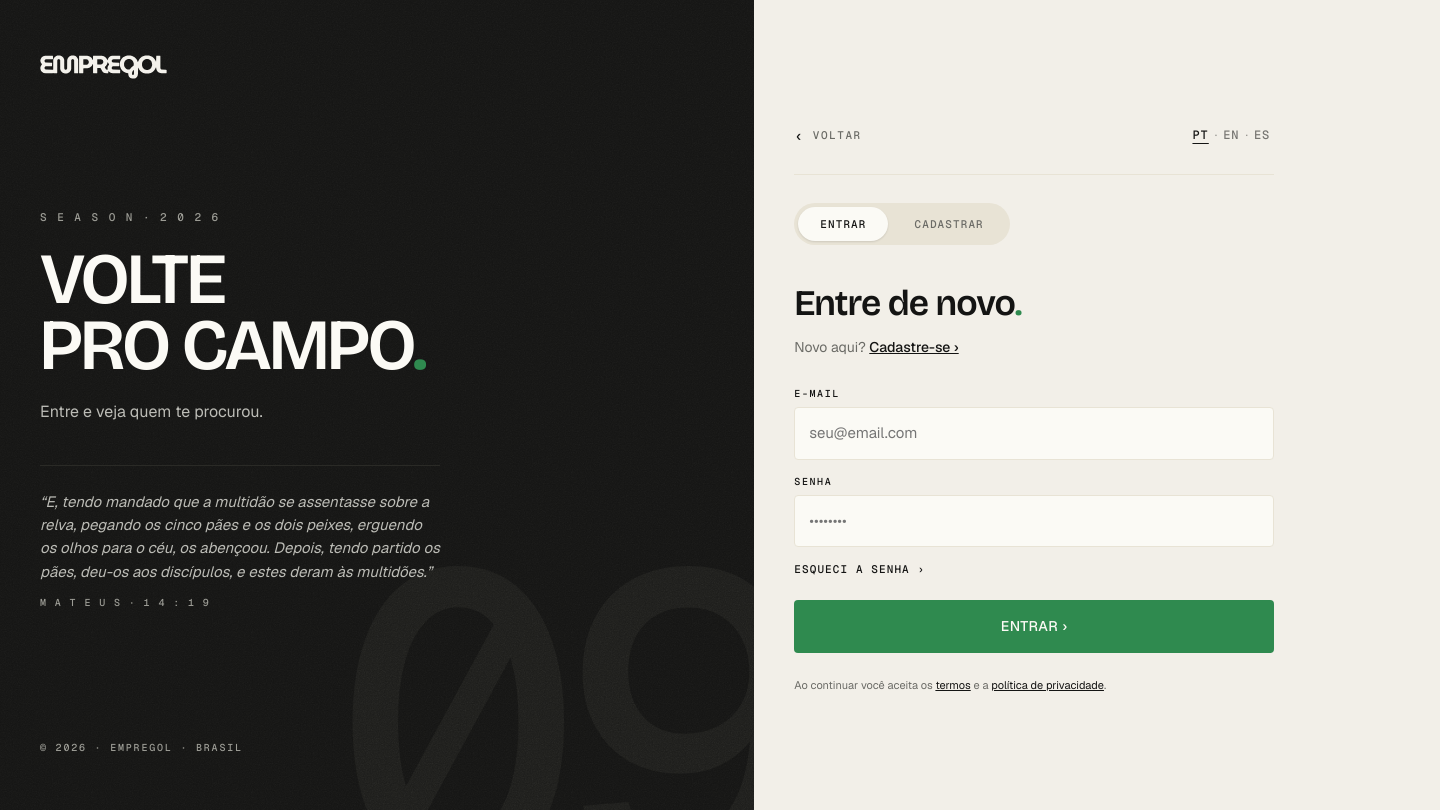
Test: Fluxo de autenticação › mostra a mensagem da API quando a credencial está errada
Type "lucas@exemplo.com" into the field labelled "E-mail" at (1034, 433), box [794,407,1274,460]
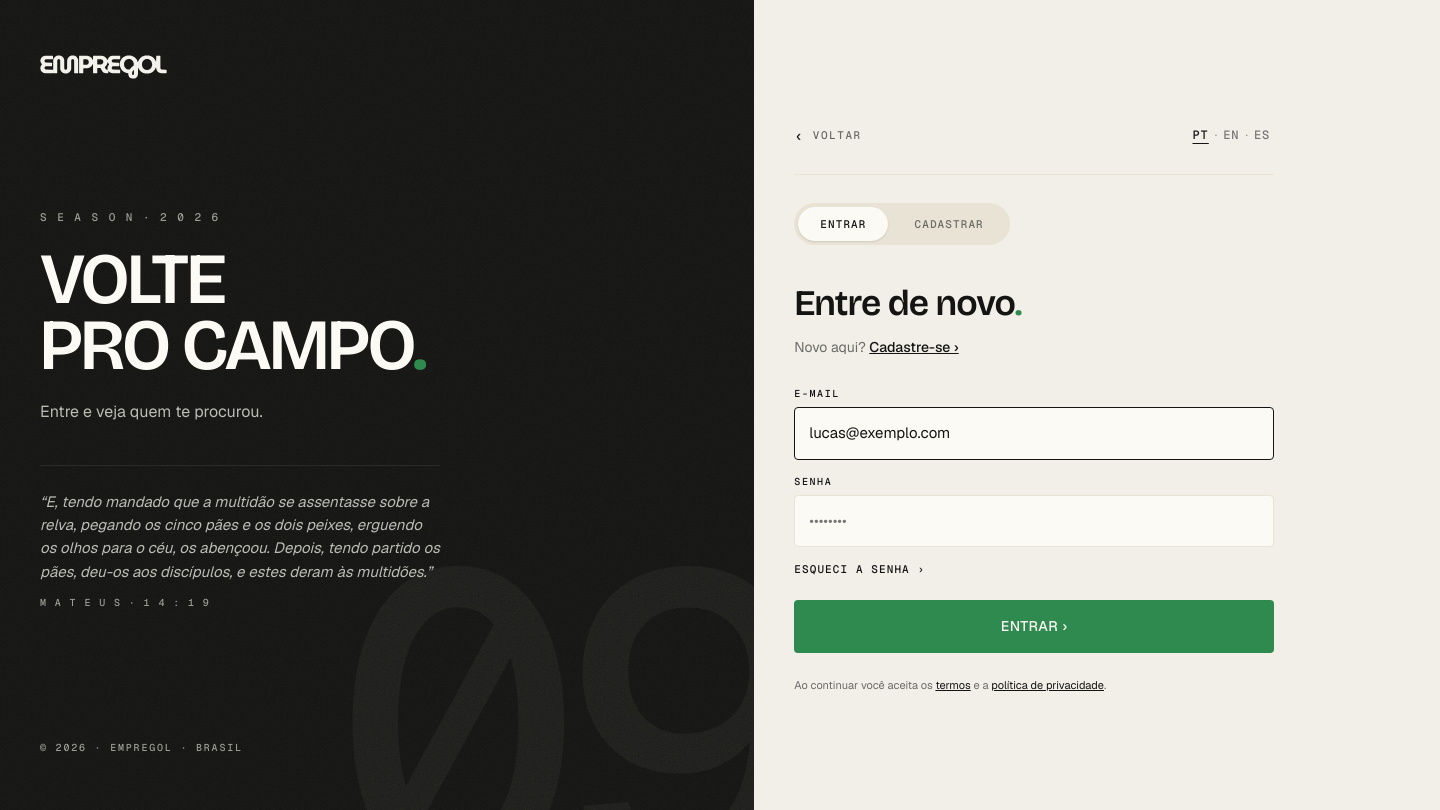
Type "errada" into the password field labelled "Senha" at (1034, 521), box [794,494,1274,547]
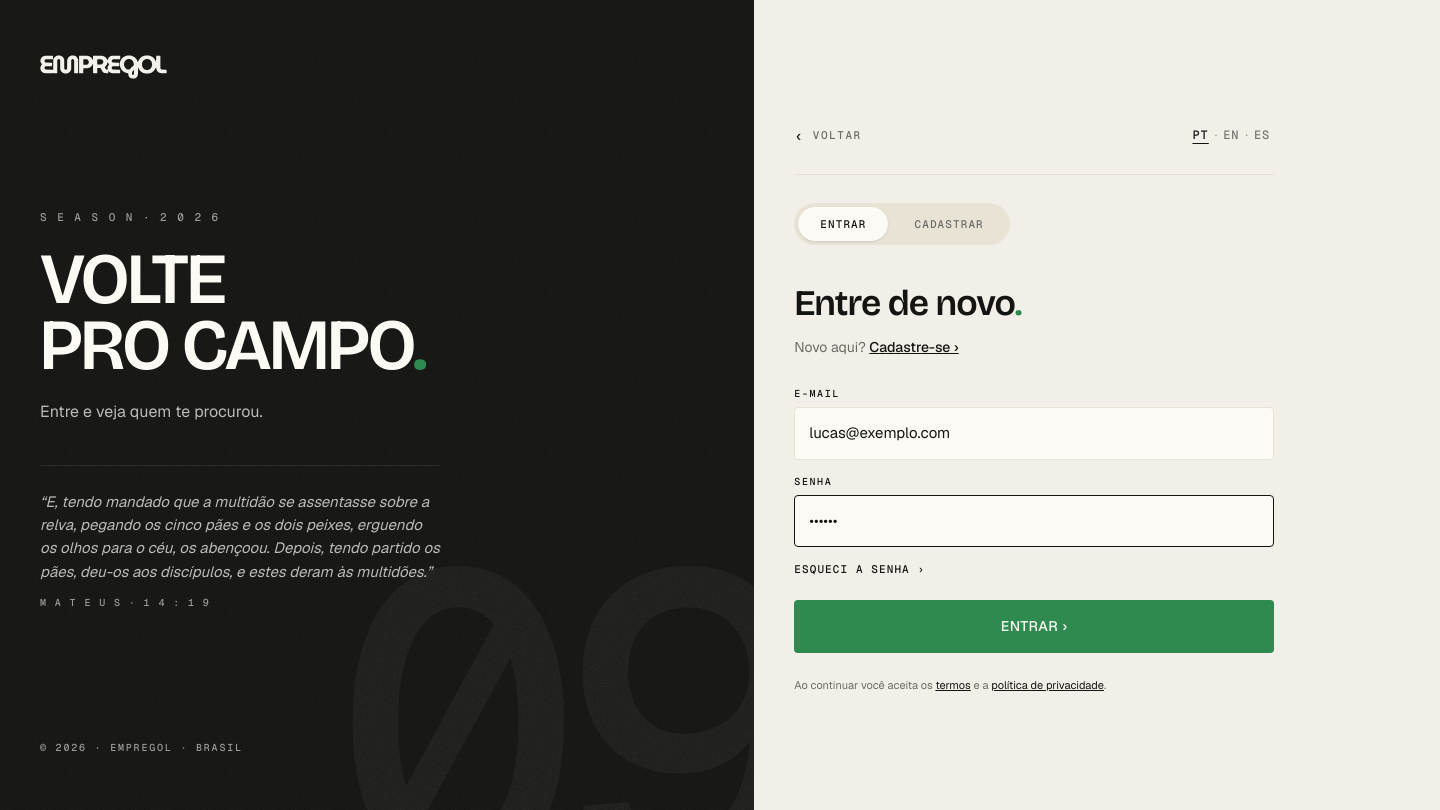
Click the button "Entrar ›" at (1034, 626), box [794,600,1274,652]
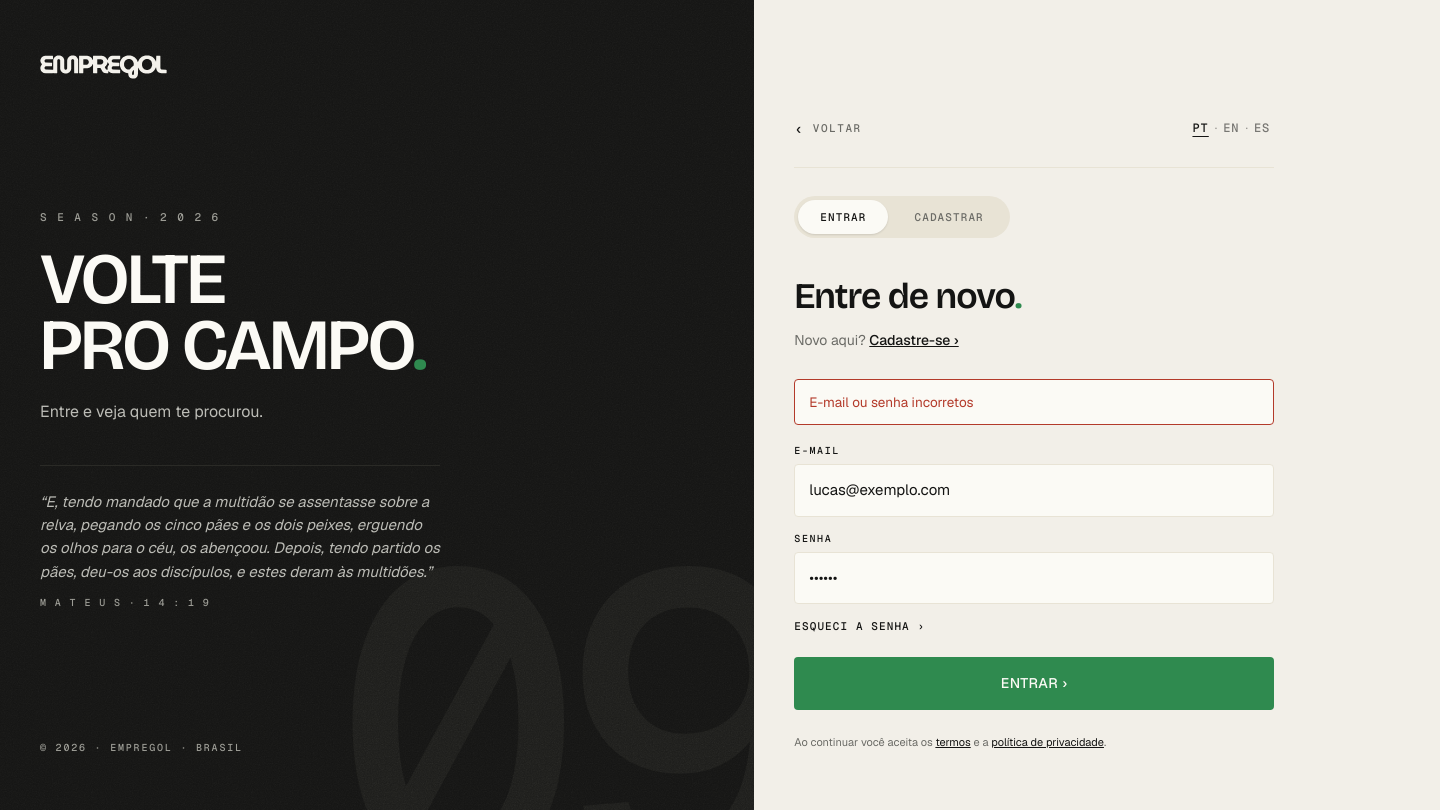
Expected: the message reads "E-mail ou senha incorretos", [809,393,974,411]
